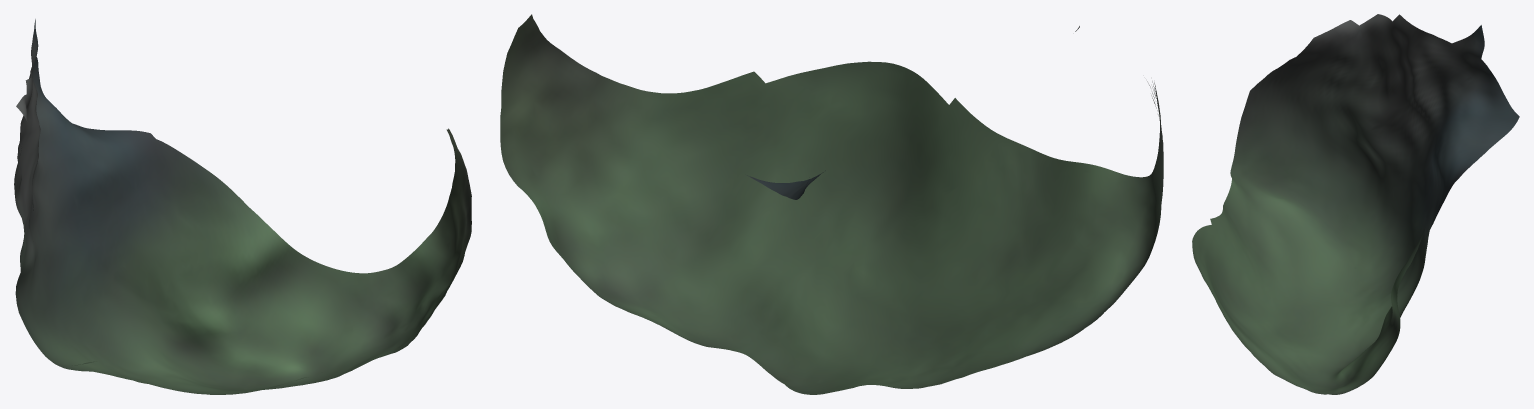
Rendered from Cloud_global_new_7.glb.
3 renders of one model, left to right at view 1: azimuth 30°, elevation 25°; view 2: azimuth 150°, elevation 25°; view 3: azimuth 270°, elevation 25°, orthographic. The views are drawn at different scales.
Parts seen in each view (by area): view 1: LOD0; view 2: LOD0; view 3: LOD0.
Part boxes in pixels (x1,y1,x2,y2): LOD0: (14,19,471,394); LOD0: (500,14,1163,394); LOD0: (1192,14,1519,394).
Size of what is drawn, in the model's own units: 1.49 by 1.11 by 1.15.
